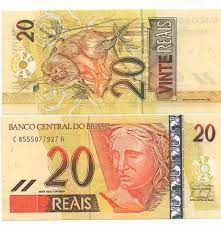nota20: (1, 10, 221, 113), (1, 117, 221, 218)
